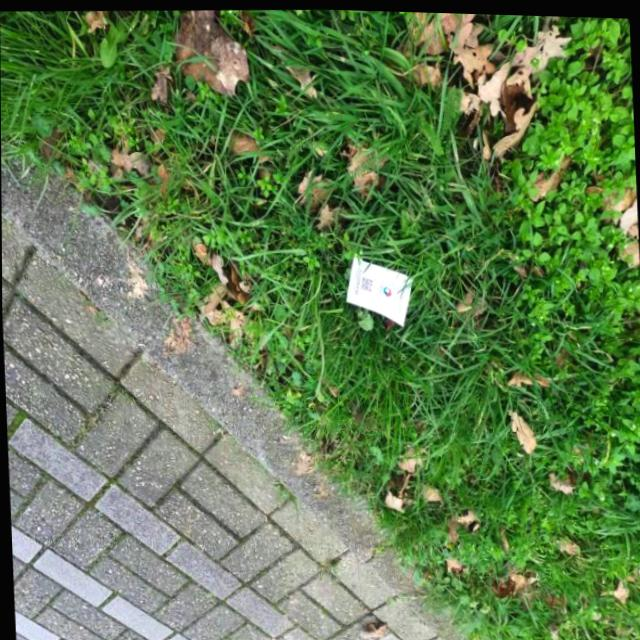Paper: (337, 245, 416, 329)
